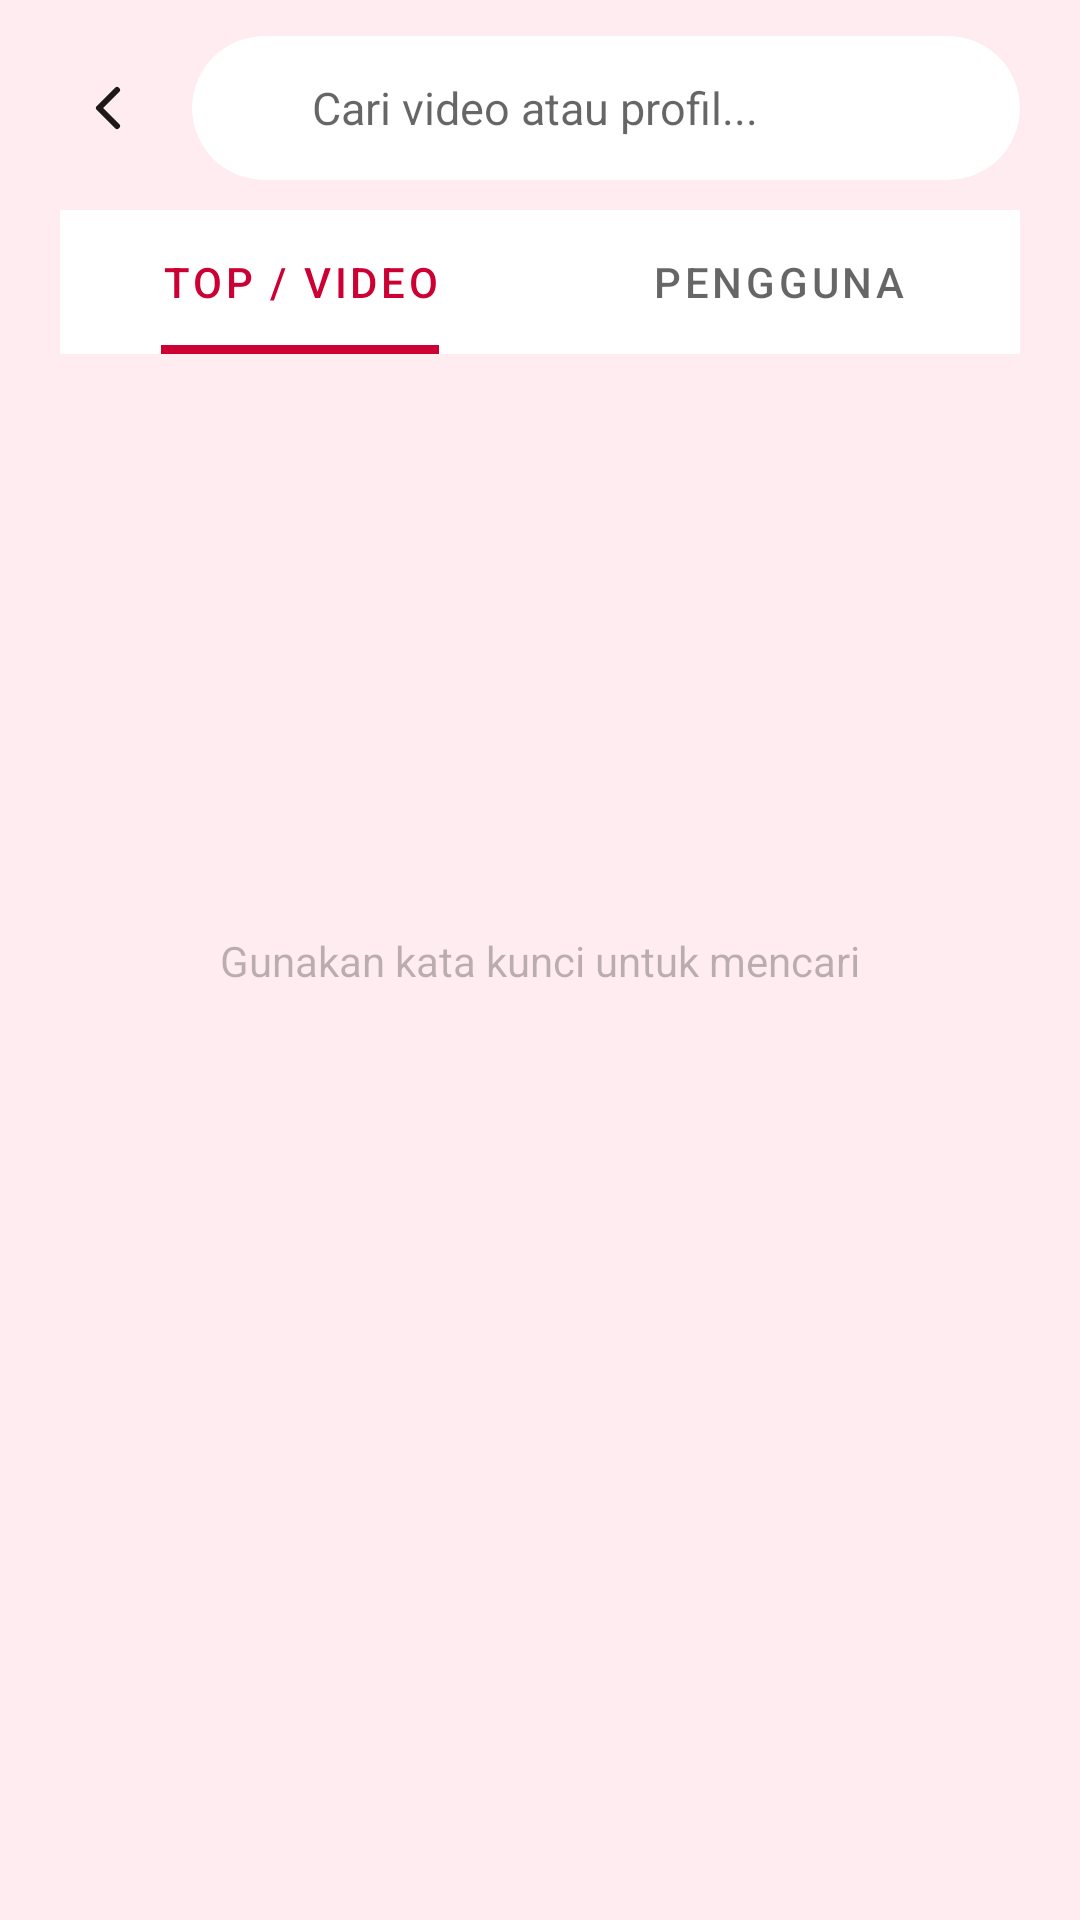

Icon click points for this 1080×1920 phone screenshot, format [x,y]:
chevron left: [108,108]
